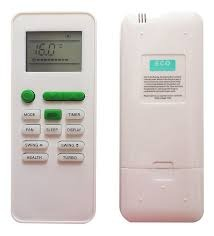remote control: (15, 15, 94, 221), (125, 13, 204, 219)
